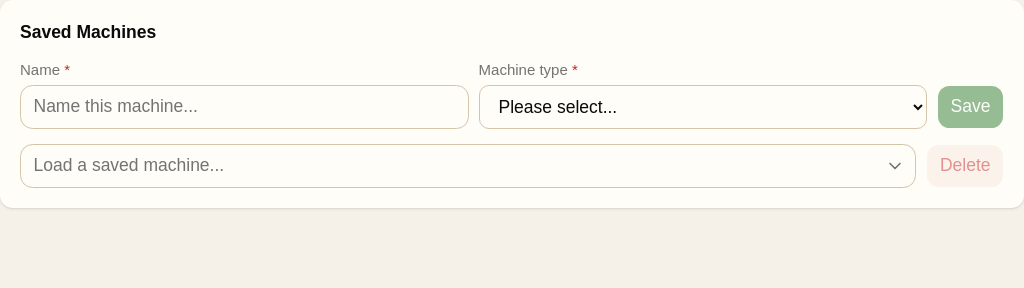
Test: SaveLoadToolbar - machine type dropdown › populates correct machineType for each machine category
Expected: the dropdown labelled "Machine type *" shows "Please select...", x1=478 y1=85 x2=927 y2=129
Click the text "Load a saved machine...". click: (129, 166)
box: x1=34 y1=156 x2=224 y2=176
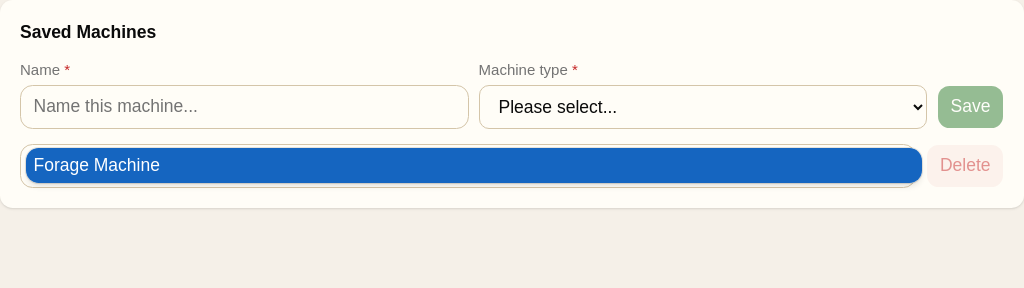
Click the option "Forage Machine". click: (97, 165)
box: x1=26 y1=148 x2=922 y2=184
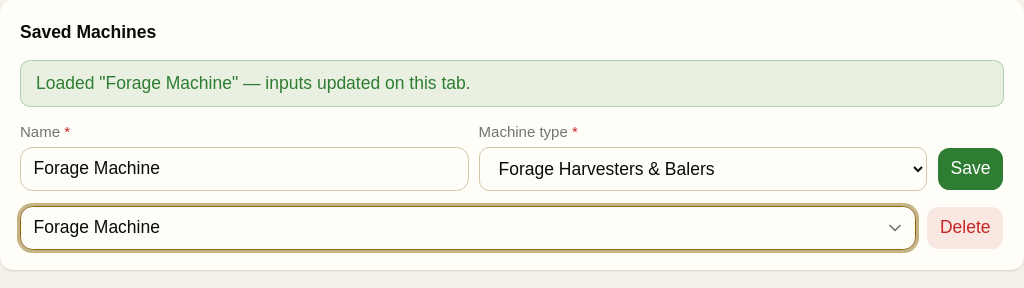
Result: the dropdown labelled "Machine type *" shows "Forage Harvesters & Balers" at x1=478 y1=147 x2=927 y2=191
